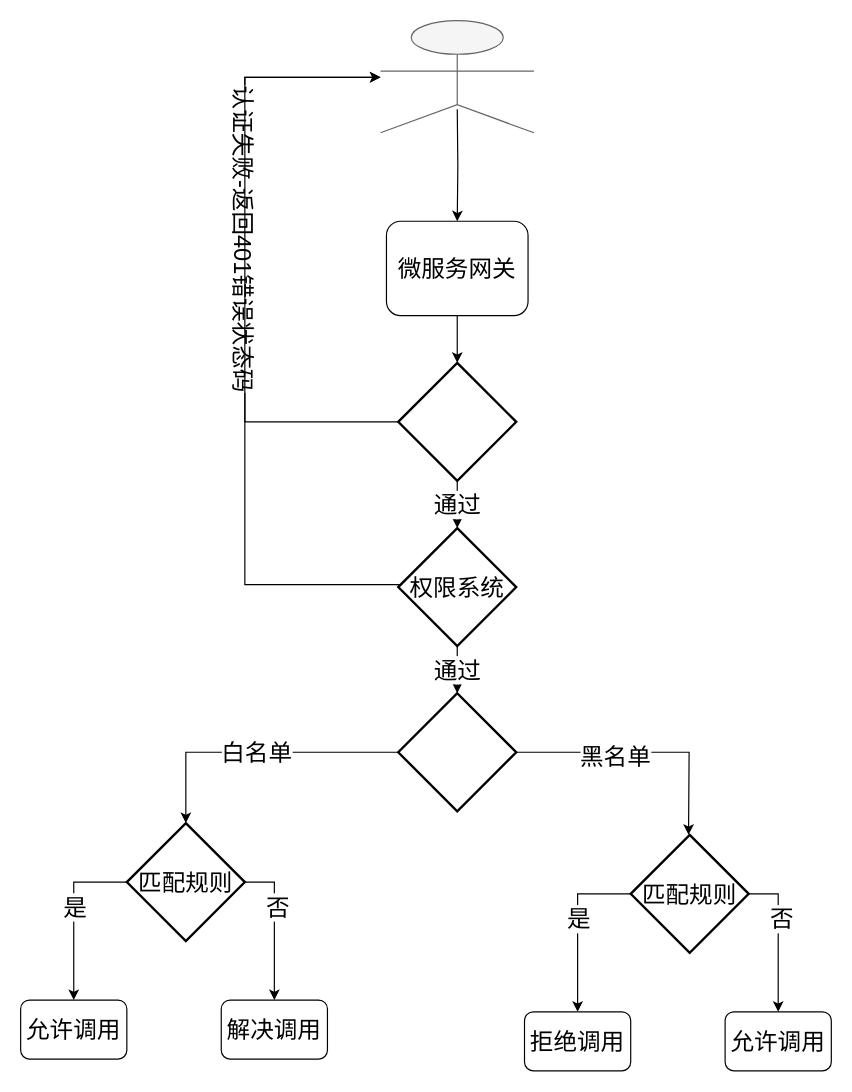
Image size: 852x1092. Some labels were removed from this diagram. Here are the shapes that lost their labels. From the top down, the centre of each, then its label:
At (x=456, y=76): "服务调用请求".
At (x=456, y=421): "Cas".
At (x=456, y=751): "鉴权".
